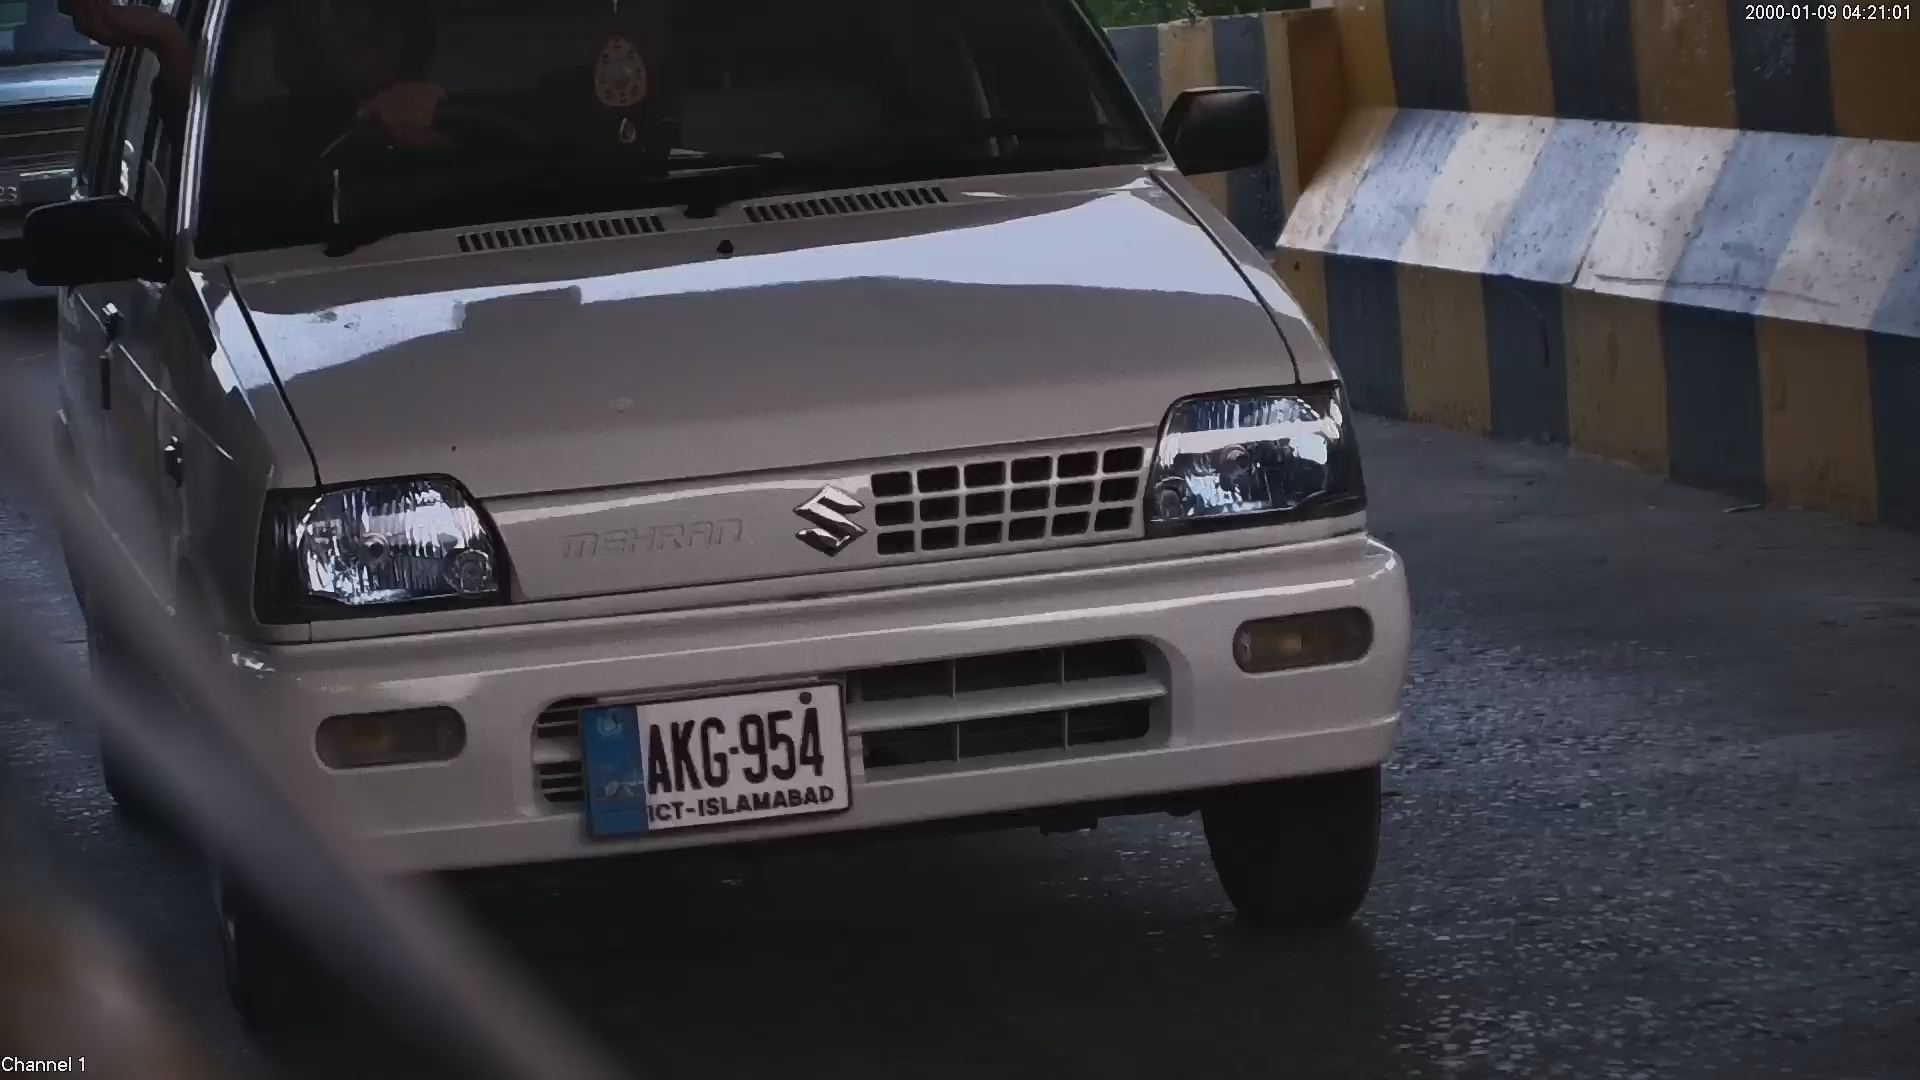Number_Plate: (556, 681, 871, 836)
Undefined: (269, 479, 510, 618), (1137, 399, 1382, 527), (545, 505, 760, 562), (784, 475, 889, 568)
